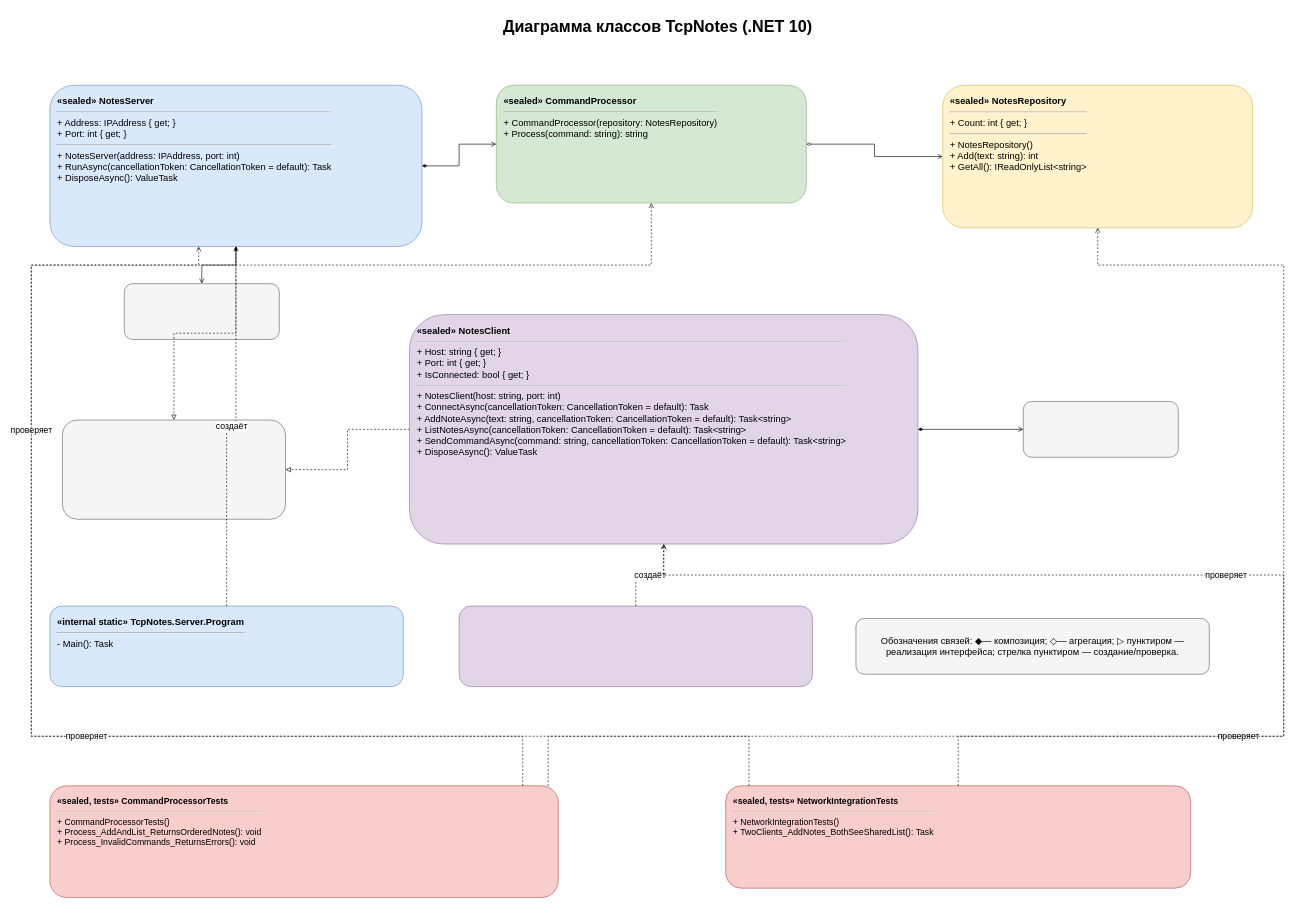
Image size: 1300x908. Some labels were removed from this diagram. The box of each missing label's shape, as (x1, y1, x2, y2) in pixels:
TcpClient «.NET»: (1023, 401, 1178, 457)
TcpListener «.NET»: (124, 283, 279, 339)
«interface» IAsyncDisposable + DisposeAsync(): ValueTask: (62, 419, 286, 519)
«internal static» TcpNotes.Client.Program - Main(): Task: (458, 605, 813, 687)
